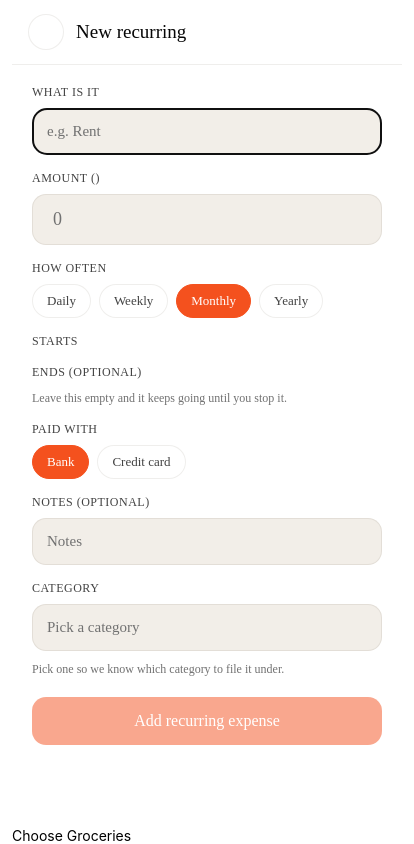
Test case: passes What is it to Pick Category and auto-selects the result
Type "flat rent" into the field with placeholder "e.g. Rent" at (207, 132), box [32, 108, 382, 155]
Wait 300 ms
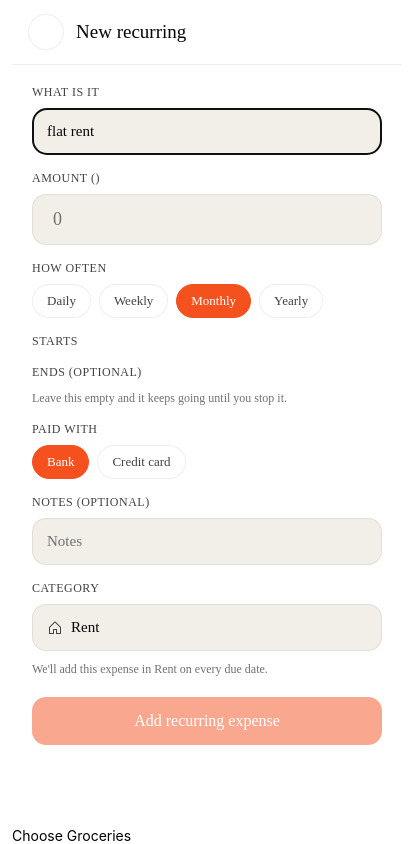
Check: the button with aria-label "Category: Rent" is shown, box [32, 604, 382, 651]
